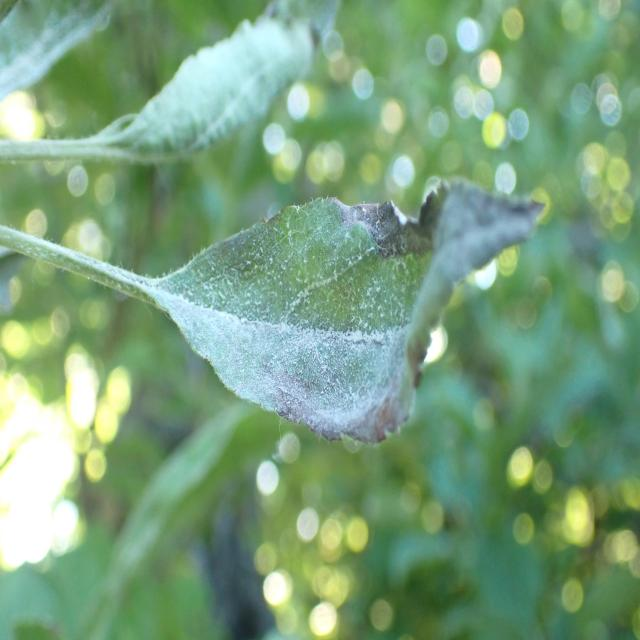Powdery_mildew: (136, 169, 554, 463), (98, 0, 364, 177)
